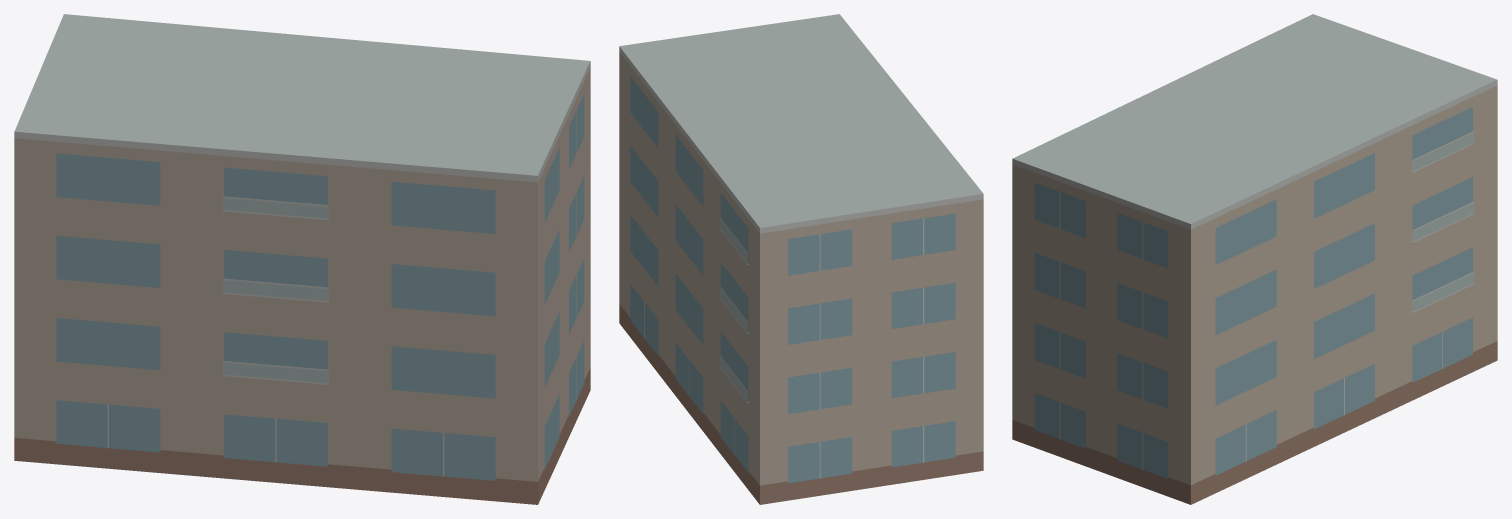
File: survey-upis-32642588.glb
The picture shows the model from 3 angles, left to right: view 1: azimuth 30°, elevation 25°; view 2: azimuth 150°, elevation 25°; view 3: azimuth 270°, elevation 25°; orthographic projection. The views are drawn at different scales.
Parts seen in each view (by area): view 1: survey-upis-32642588.tmp; view 2: survey-upis-32642588.tmp; view 3: survey-upis-32642588.tmp.
Part boxes in pixels (x1,y1,x2,y2): survey-upis-32642588.tmp: (14,14,590,504); survey-upis-32642588.tmp: (619,14,983,504); survey-upis-32642588.tmp: (1012,14,1497,504).
Size of the model in its own units: 19.59 by 12.2 by 19.11.
